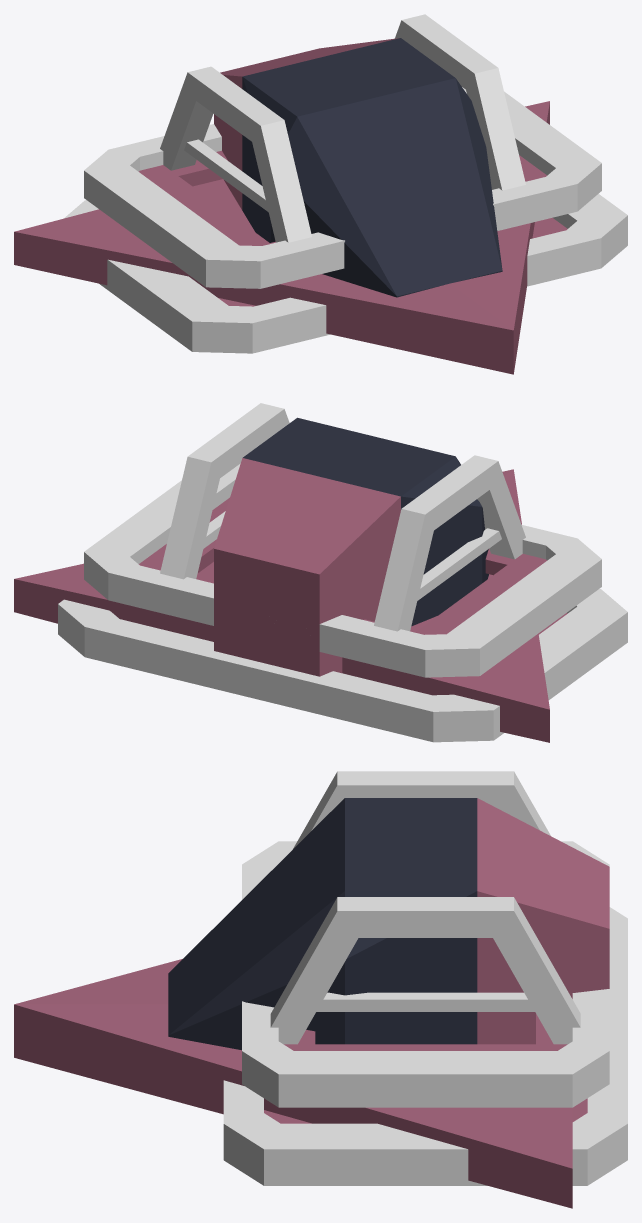
File: flying_00_01.obj
The picture shows the model from 3 angles, top to bottom: view 1: azimuth 30°, elevation 25°; view 2: azimuth 150°, elevation 25°; view 3: azimuth 270°, elevation 25°; orthographic projection. The views are drawn at different scales.
Parts seen in each view (by area): view 1: mergedBlocks; view 2: mergedBlocks; view 3: mergedBlocks.
Part boxes in pixels (bbox=[...]): mergedBlocks: bbox=[14, 14, 627, 374]; mergedBlocks: bbox=[14, 403, 627, 742]; mergedBlocks: bbox=[14, 771, 627, 1208].
Bounding box in the file's own units: 2.03 × 0.65 × 1.67.
